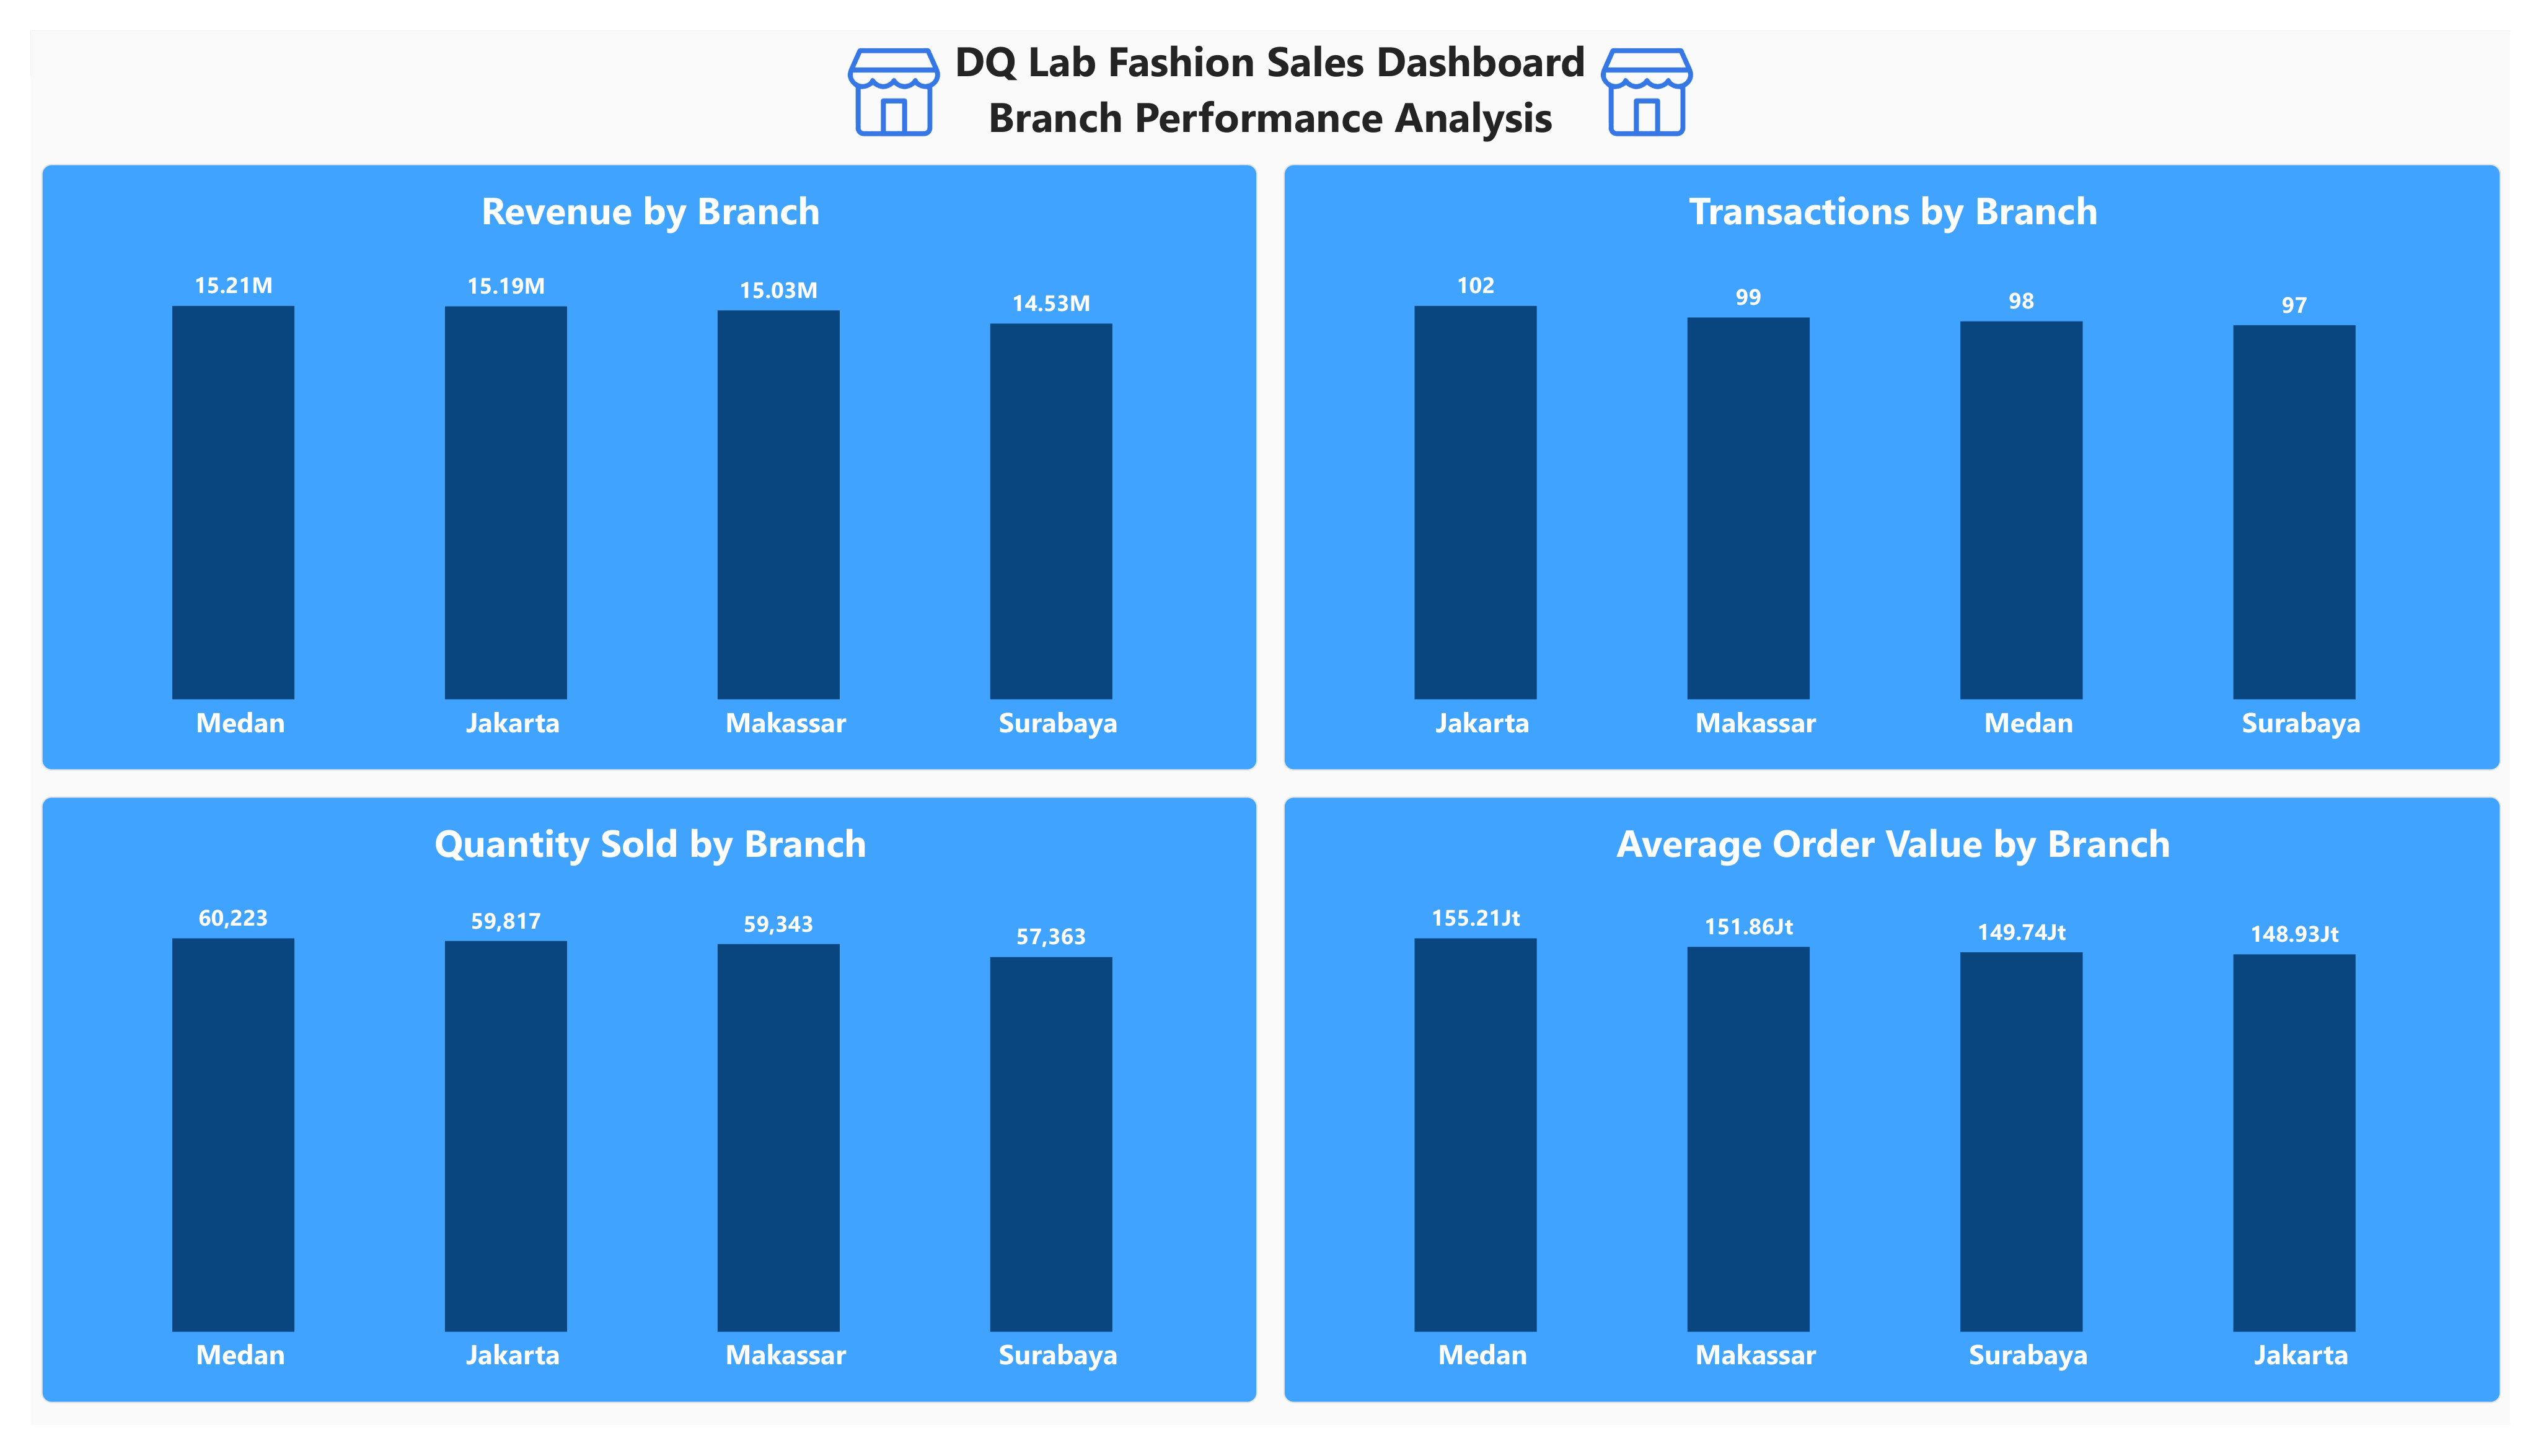

This screenshot's page, from the dashboard's own definition file:
{"tool":"powerbi","page":{"name":"Branch Performance","canvas":[1920,1080],"ordinal":3},"visuals":[{"type":"textbox","box":[715,0,490.4,103],"z":0},{"type":"columnChart","title":"Revenue by Branch","fields":{"Category":["Master Cabang.Lokasi"],"Y":["Transaksi Penjualan.Total Revenue"]},"box":[7.5,102.5,942.5,470],"z":1000},{"type":"columnChart","title":"Transactions by Branch","fields":{"Category":["Master Cabang.Lokasi"],"Y":["Transaksi Penjualan.Total Transactions"]},"box":[970,102.5,942.5,470],"z":2000},{"type":"columnChart","title":"Quantity Sold by Branch","fields":{"Category":["Master Cabang.Lokasi"],"Y":["Transaksi Penjualan.Total Quantity Sold"]},"box":[7.5,592.5,942.5,470],"z":3000},{"type":"columnChart","title":"Average Order Value by Branch","fields":{"Category":["Master Cabang.Lokasi"],"Y":["Transaksi Penjualan.Average Order Value"]},"box":[970,592.5,942.5,470],"z":4000},{"type":"image","box":[1205.4,10.3,92.9,80],"z":5000},{"type":"image","box":[622.3,10.3,92.9,80],"z":6000}]}

Visuals, with their boxes on the page's 1920x1080 design canvas (x1, y1, x2, y2). These are canvas units, not pixel positions in the 2541x1456 screenshot, which may show the page scaled, cropped or inside an application window:
textbox: [x1=715, y1=0, x2=1205, y2=103]
"Revenue by Branch" columnChart: [x1=8, y1=102, x2=950, y2=572]
"Transactions by Branch" columnChart: [x1=970, y1=102, x2=1912, y2=572]
"Quantity Sold by Branch" columnChart: [x1=8, y1=592, x2=950, y2=1062]
"Average Order Value by Branch" columnChart: [x1=970, y1=592, x2=1912, y2=1062]
image: [x1=1205, y1=10, x2=1298, y2=90]
image: [x1=622, y1=10, x2=715, y2=90]
